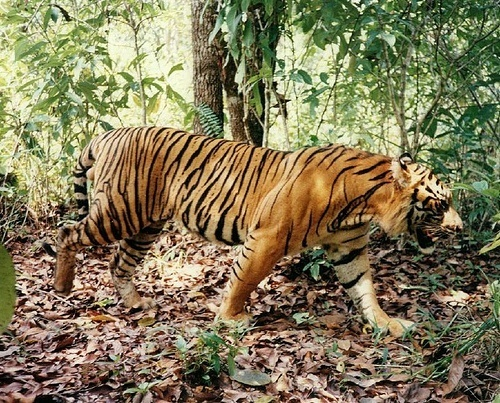tigre: (49, 121, 466, 345)
